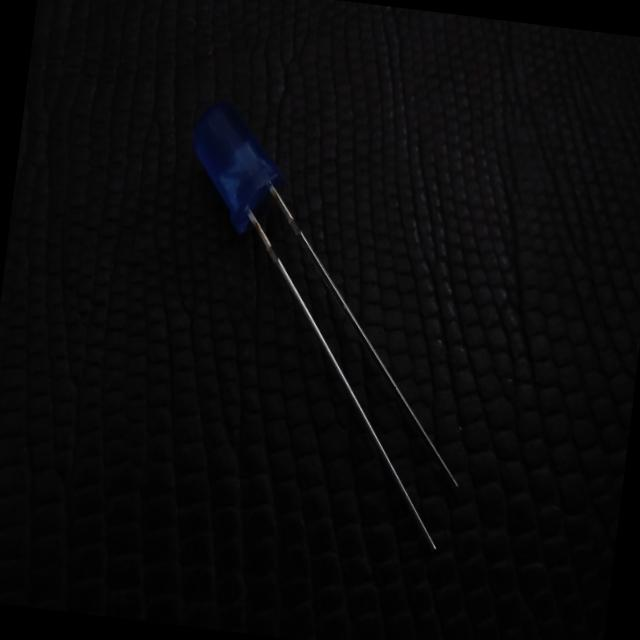blue_led: (180, 94, 294, 239)
